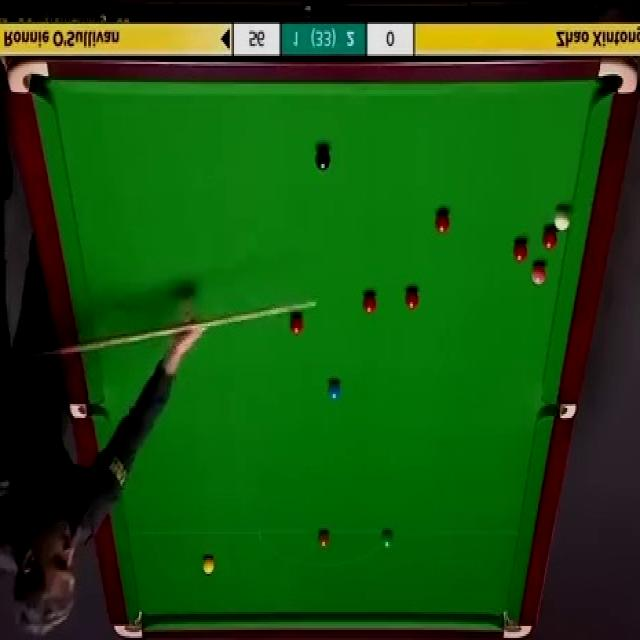black-ball: (314, 147, 332, 172)
blue-ball: (328, 379, 341, 401)
brown-ball: (318, 530, 330, 547)
green-ball: (382, 530, 393, 550)
pink-ball: (531, 262, 548, 287)
red-ball: (433, 210, 451, 235), (405, 288, 420, 313), (543, 228, 557, 253), (362, 291, 376, 315), (513, 241, 528, 262), (290, 316, 304, 338)
white-ball: (555, 204, 571, 232)
yellow-ball: (202, 554, 216, 574)
